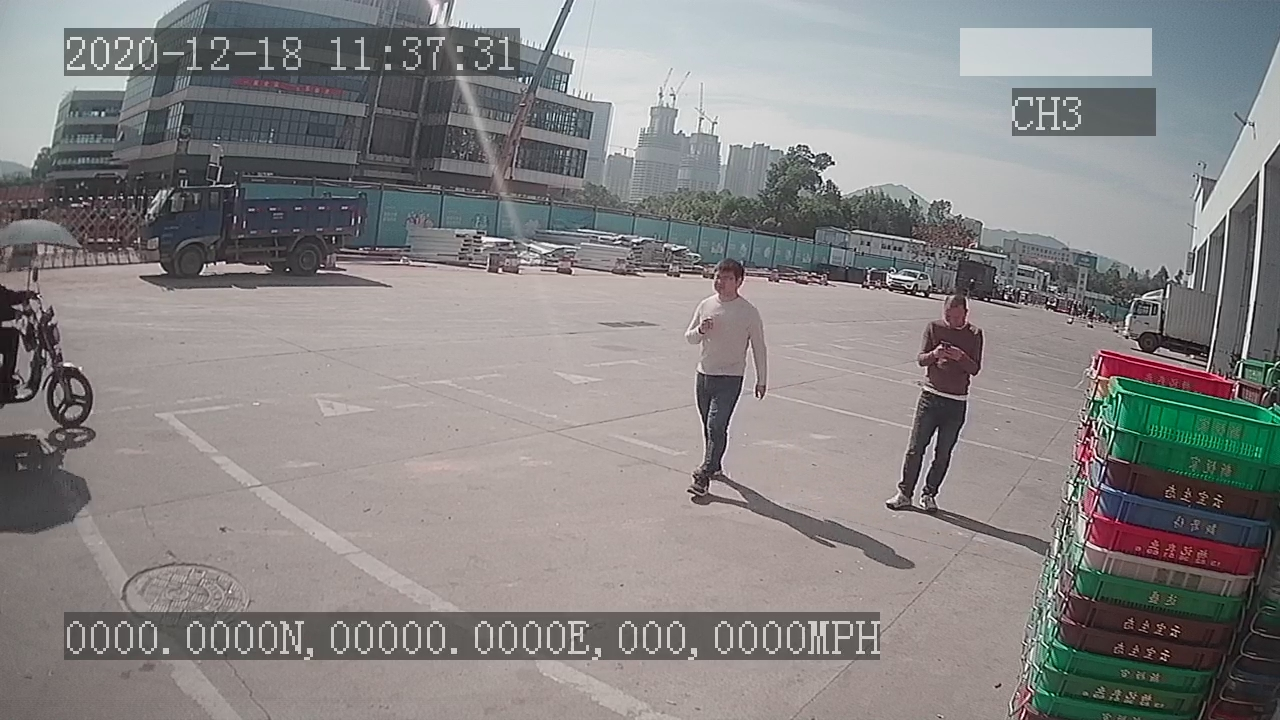person: (881, 291, 985, 517), (680, 259, 771, 499)
